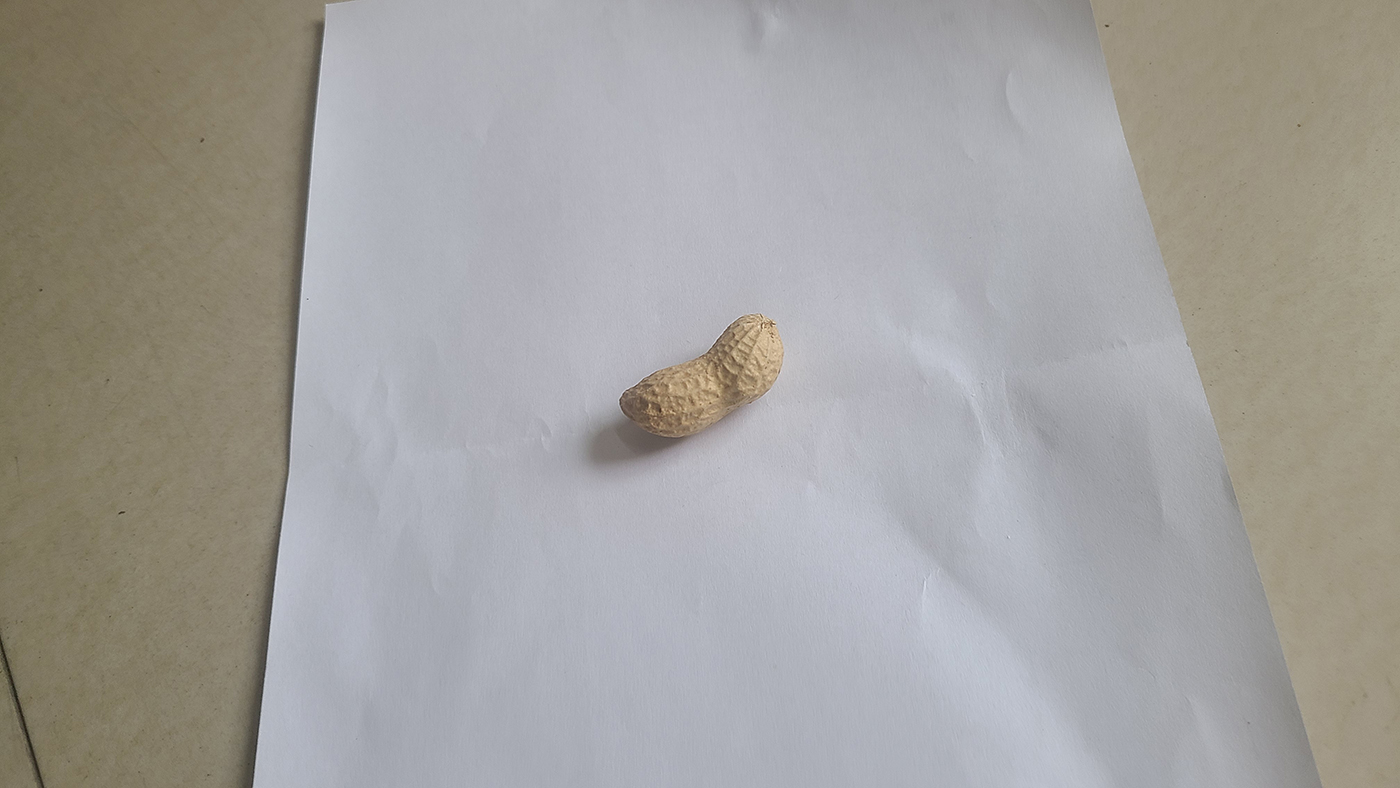h: (618, 313, 786, 438)
